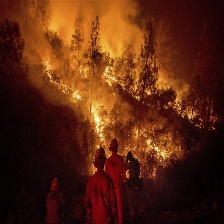fire: (43, 63, 83, 101), (87, 106, 110, 149), (135, 130, 164, 158), (168, 96, 192, 123), (102, 63, 118, 88)
smoke: (19, 2, 142, 59)
